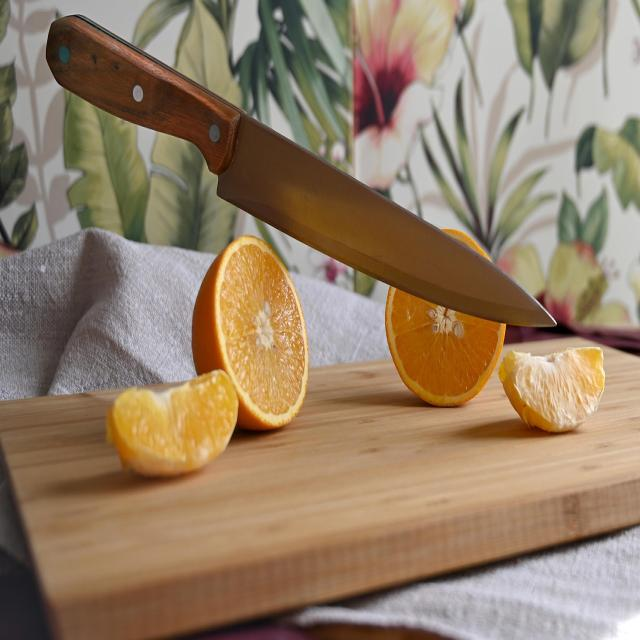Knife: (46, 16, 553, 325)
